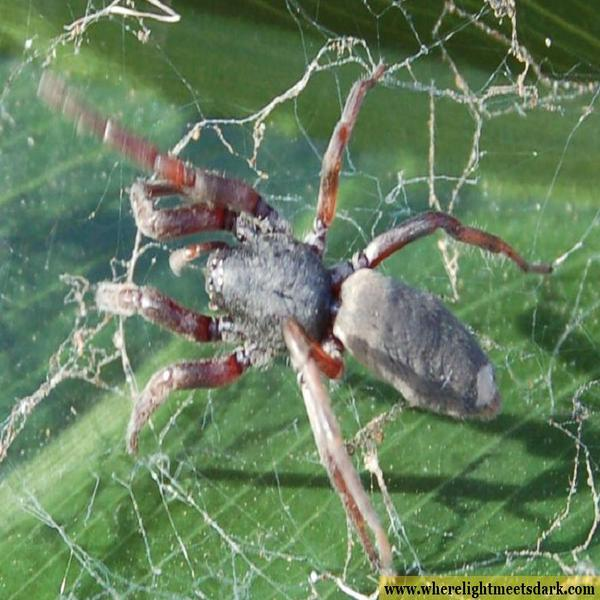White-Tailed Spider: (75, 78, 522, 554)
